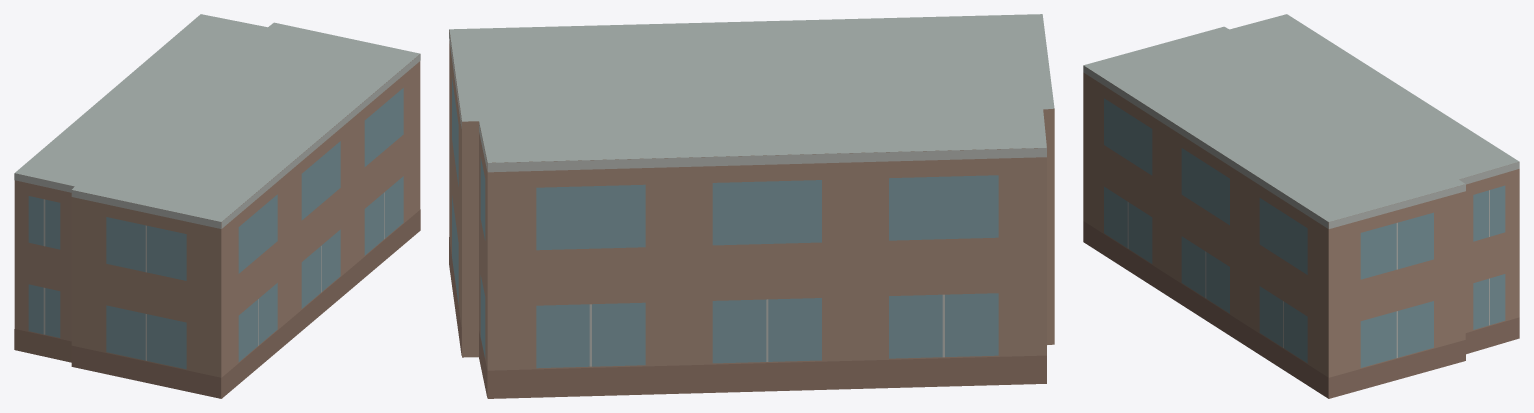
The model's file is survey-upis-33010435.glb.
3 views of the same model, side by side, from view 1: azimuth 30°, elevation 25°; view 2: azimuth 150°, elevation 25°; view 3: azimuth 270°, elevation 25° (orthographic). The views are drawn at different scales.
Visible parts, largest first — view 1: survey-upis-33010435.tmp; view 2: survey-upis-33010435.tmp; view 3: survey-upis-33010435.tmp.
Boxes of the visible parts, left/top/right/bottom form: survey-upis-33010435.tmp: left=14, top=14, right=420, bottom=398; survey-upis-33010435.tmp: left=449, top=14, right=1054, bottom=398; survey-upis-33010435.tmp: left=1083, top=14, right=1519, bottom=398.
Size of the model in its own units: 15.42 by 6.1 by 13.66.
